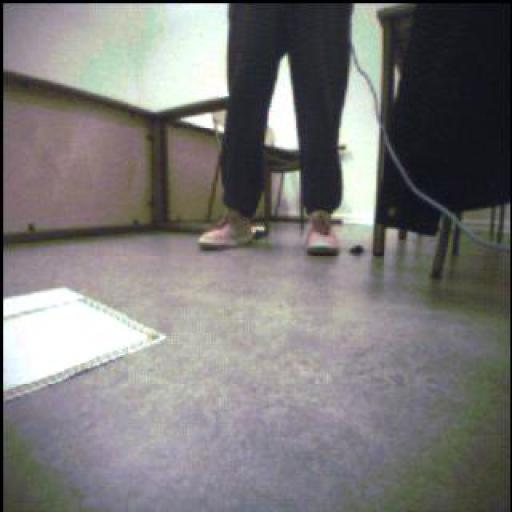Pad: (4, 271, 172, 418)
